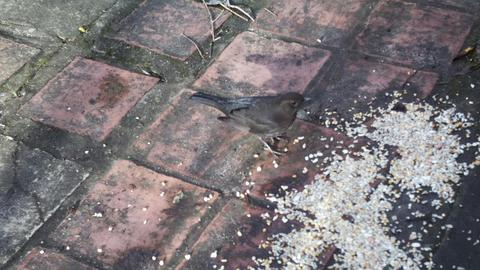blackbird: (188, 91, 312, 159)
